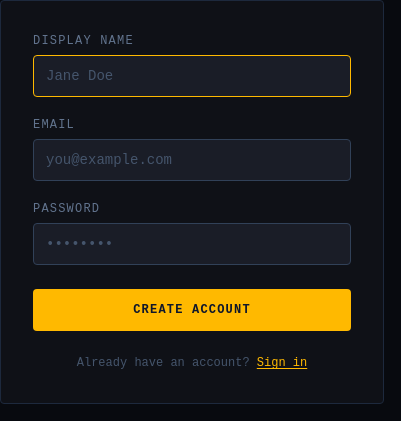
RegisterForm › disables submit button while loading
Type "a@b.com" into the field with placeholder "you@example.com".
click(192, 160); type("a@b.com")  # box top-left (33, 139), bottom-right (351, 181)
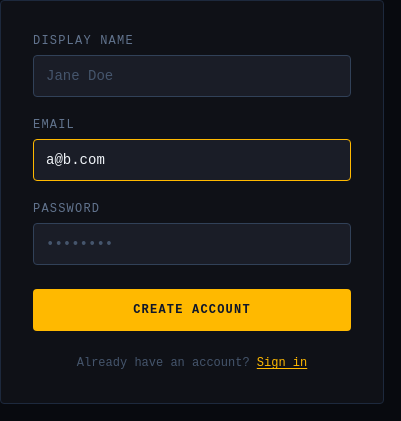
Type "password123" into the password field with placeholder "••••••••".
click(192, 244); type("password123")  # box top-left (33, 223), bottom-right (351, 265)
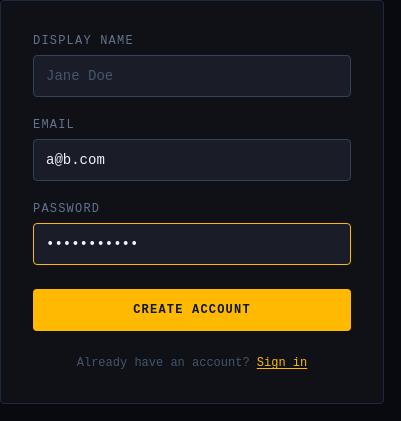
Click the button with test id "submit-button".
click(192, 310)  # box top-left (33, 289), bottom-right (351, 331)
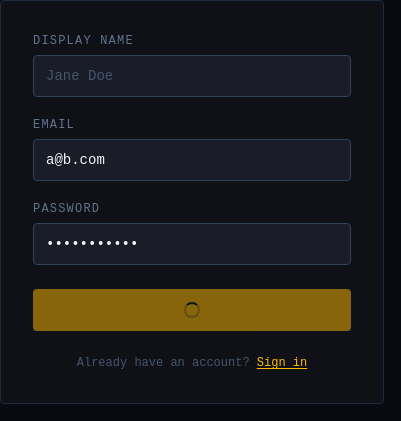
Result: the button with test id "submit-button" is disabled at top-left (33, 289), bottom-right (351, 331)
